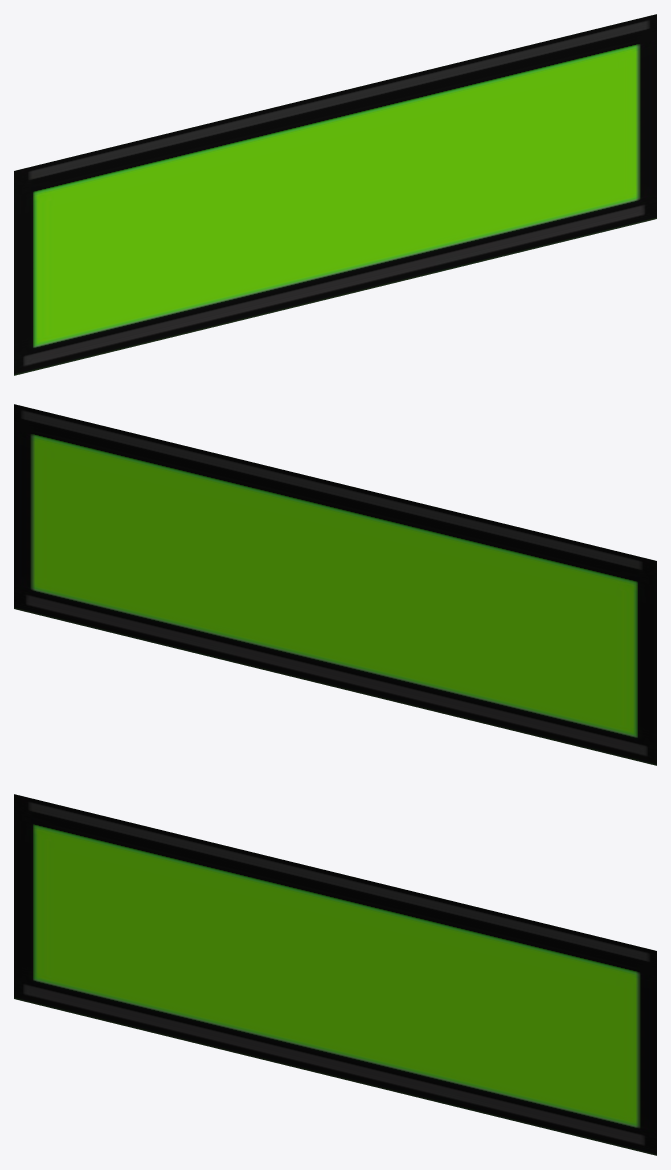
File: cartel.obj
3 views of the same model, one above another, from view 1: azimuth 30°, elevation 25°; view 2: azimuth 150°, elevation 25°; view 3: azimuth 330°, elevation 25° (orthographic).
Parts seen in each view (by area): view 1: letrero; view 2: letrero; view 3: letrero.
Part boxes in pixels (x1,y1,x2,y2): letrero: (14, 14, 656, 375); letrero: (14, 404, 656, 765); letrero: (14, 794, 656, 1155).
Bounding box in the file's own units: 13.36 × 4.07 × 0.
